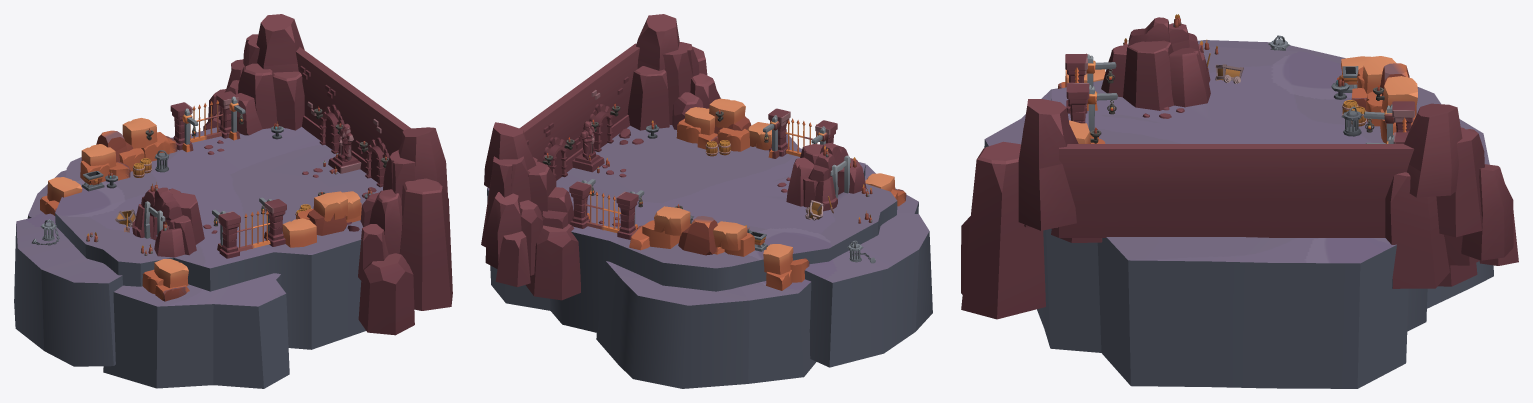
File: Cave Fighting level (1).fbx
3 views of the same model, side by side, from view 1: azimuth 30°, elevation 25°; view 2: azimuth 150°, elevation 25°; view 3: azimuth 270°, elevation 25° (orthographic). The views are drawn at different scales.
Visible parts, largest first — view 1: Plane.009, Circle.007, Cube.048, Circle.026, Circle.178, Circle.019, Circle.180, Circle.179, Circle.024, Circle.021, Circle.022, Cube.040 (+27 smaller); view 2: Plane.009, Cube.048, Circle.025, Circle.018, Circle.019, Circle.118, Circle.151, Circle.178, Circle.022, Circle.169, Circle.027, Circle.119 (+28 smaller); view 3: Plane.009, Cube.048, Circle.007, Circle.019, Circle.180, Circle.178, Circle.151, Circle.118, Circle.034, Circle.033, Cube.021, Circle.030 (+9 smaller).
Boxes of the visible parts, box(x1,y1,x2,y2) form: Plane.009: box(14, 127, 382, 388); Circle.007: box(399, 178, 452, 310); Cube.048: box(296, 47, 410, 173); Circle.026: box(358, 253, 414, 335); Circle.178: box(256, 14, 304, 72); Circle.019: box(398, 127, 447, 196); Circle.180: box(272, 71, 304, 130); Circle.179: box(238, 63, 276, 128); Circle.024: box(369, 189, 402, 254); Circle.021: box(358, 224, 388, 282); Circle.022: box(383, 150, 415, 199); Cube.040: box(282, 218, 316, 247); Plane.009: box(487, 125, 932, 388); Cube.048: box(519, 43, 639, 172); Circle.025: box(526, 224, 580, 300); Circle.018: box(627, 66, 669, 130); Circle.019: box(636, 14, 679, 70); Circle.118: box(485, 192, 521, 268); Circle.151: box(485, 156, 531, 229); Circle.178: box(484, 122, 536, 188); Circle.022: box(662, 42, 699, 124); Circle.169: box(495, 231, 530, 287); Circle.027: box(678, 216, 717, 255); Circle.119: box(519, 200, 542, 275); Plane.009: box(984, 40, 1493, 388); Cube.048: box(1059, 144, 1414, 237); Circle.007: box(961, 141, 1045, 319); Circle.019: box(1018, 99, 1078, 230); Circle.180: box(1385, 172, 1449, 288); Circle.178: box(1404, 103, 1462, 197); Circle.151: box(1436, 127, 1484, 237); Circle.118: box(1461, 164, 1513, 260); Circle.034: box(1123, 40, 1173, 110); Circle.033: box(1169, 47, 1210, 107); Cube.021: box(1381, 76, 1417, 115); Circle.030: box(1101, 44, 1128, 97).
Bounding box in the file's own units: 10.85 × 5.51 × 10.53.
